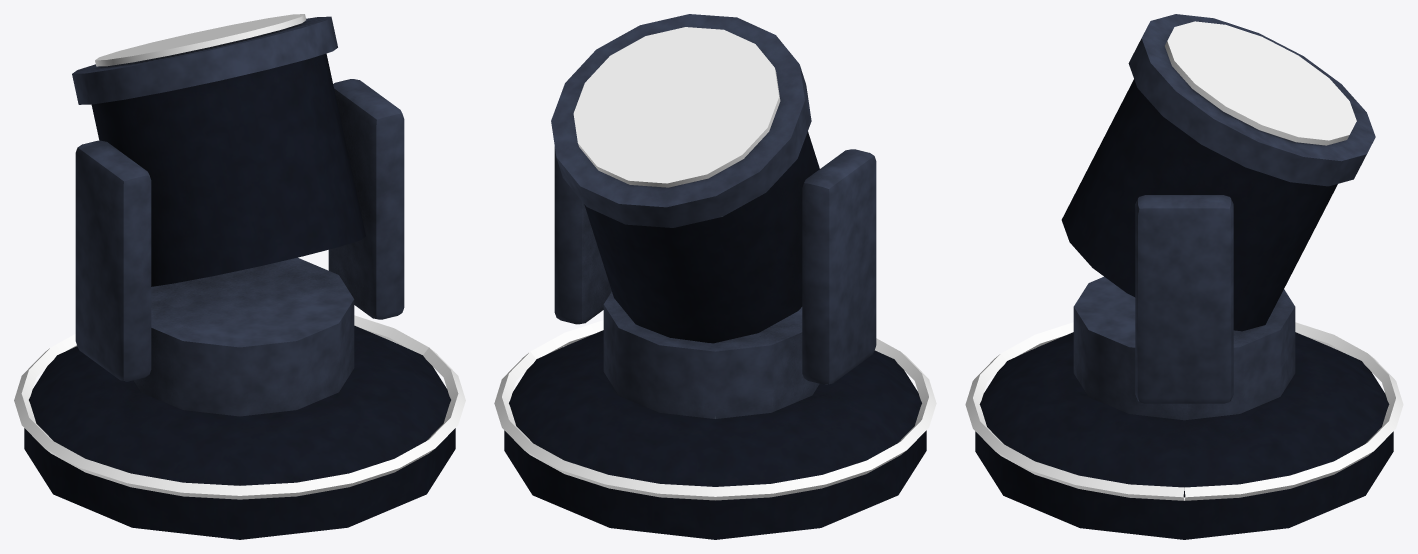
File: searchlight.fbx
3 renders of one model, left to right at view 1: azimuth 30°, elevation 25°; view 2: azimuth 150°, elevation 25°; view 3: azimuth 270°, elevation 25°, orthographic. The views are drawn at different scales.
Visible parts, largest first — view 1: searchlight, searchlight_glow; view 2: searchlight, searchlight_glow; view 3: searchlight, searchlight_glow.
Boxes of the visible parts, x1,y1,x2,y2 form: searchlight: (24,14,455,539); searchlight_glow: (14,315,465,499); searchlight: (504,14,926,539); searchlight_glow: (494,320,936,500); searchlight: (975,14,1393,539); searchlight_glow: (965,322,1403,500).
Size of the model in its own units: 356 by 371 by 356.
1 material, 1 textured.
